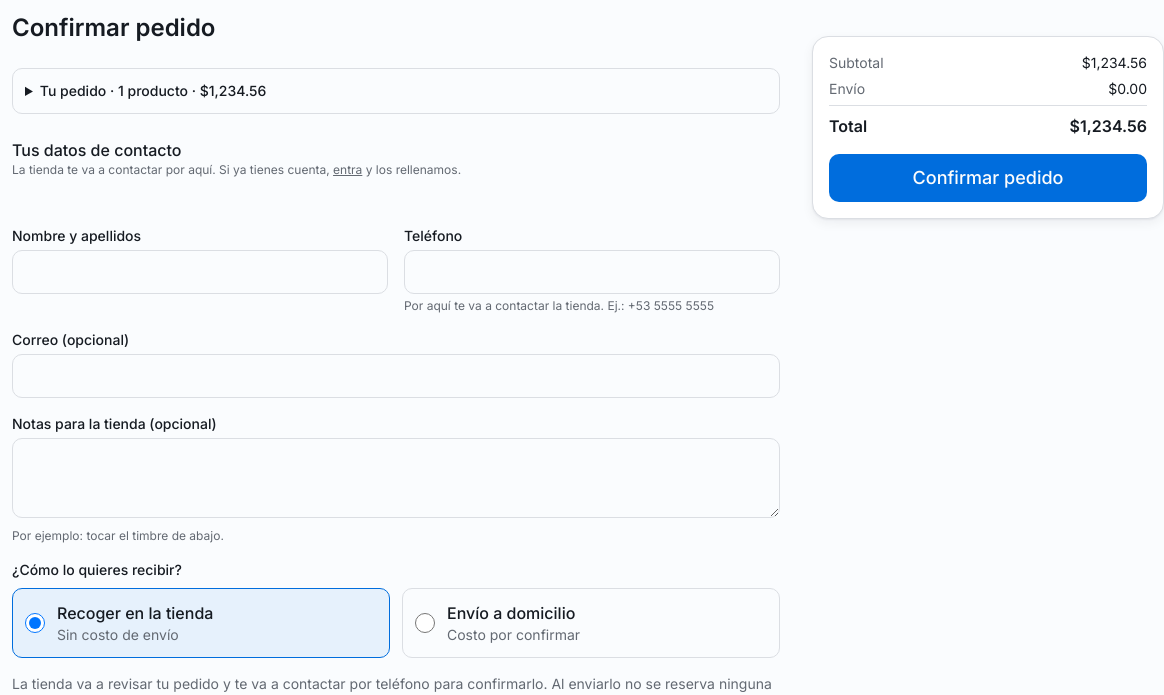
CheckoutForm — envío cotizado (F-031) › volver a retiro devuelve el resumen a 'Total' y 'Envío $0.00', sin residuos
Expected: the button "Confirmar pedido" is enabled, [829,154,1147,202]
Click the radio button labelled "Envío a domicilio Costo por confirmar": [425, 623] box [415,613,435,633]
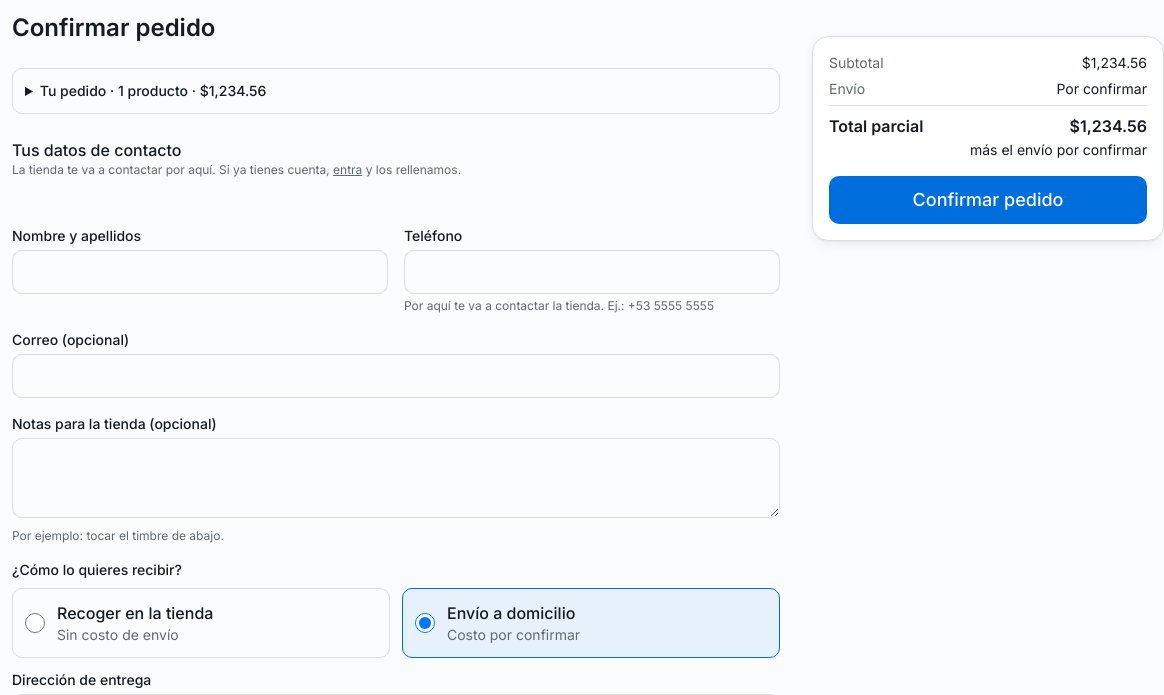
Result: the text "Total parcial" is shown at [829,114,923,138]
Click the radio button labelled "Recoger en la tienda Sin costo de envío": [35, 623] box [25,613,45,633]
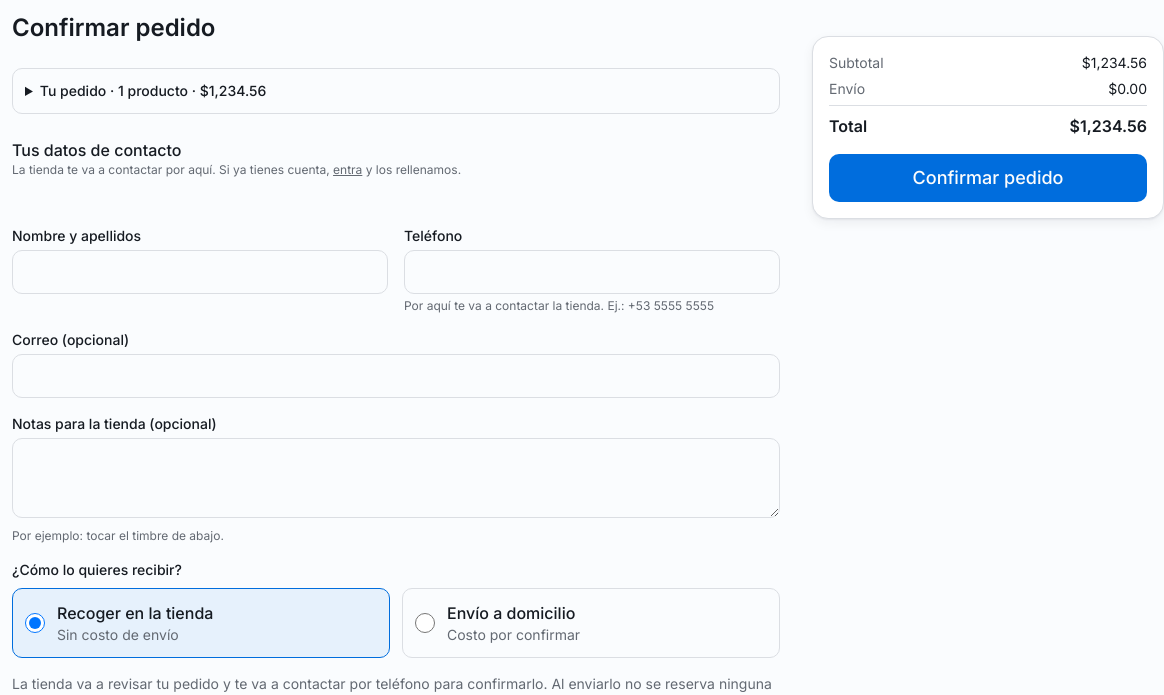
Result: the text "Total parcial" is gone
Result: the text "más el envío por confirmar" is gone
Result: the text "$0.00" is shown at [1108,79,1147,99]
